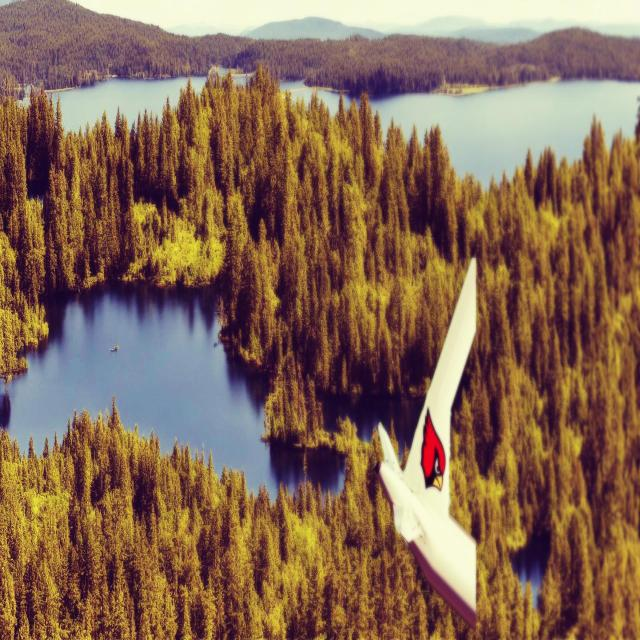airplane: (374, 255, 478, 630)
